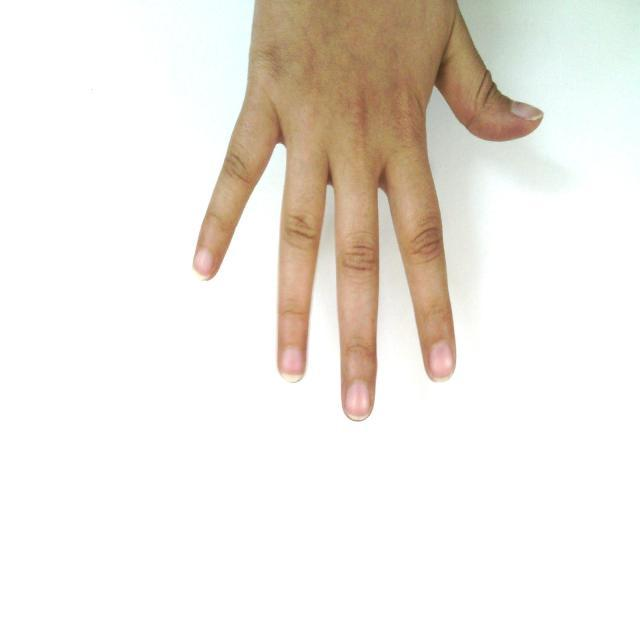Fingernail: (346, 381, 370, 420), (430, 342, 452, 381), (281, 347, 302, 382), (194, 250, 215, 280), (512, 103, 542, 121)
